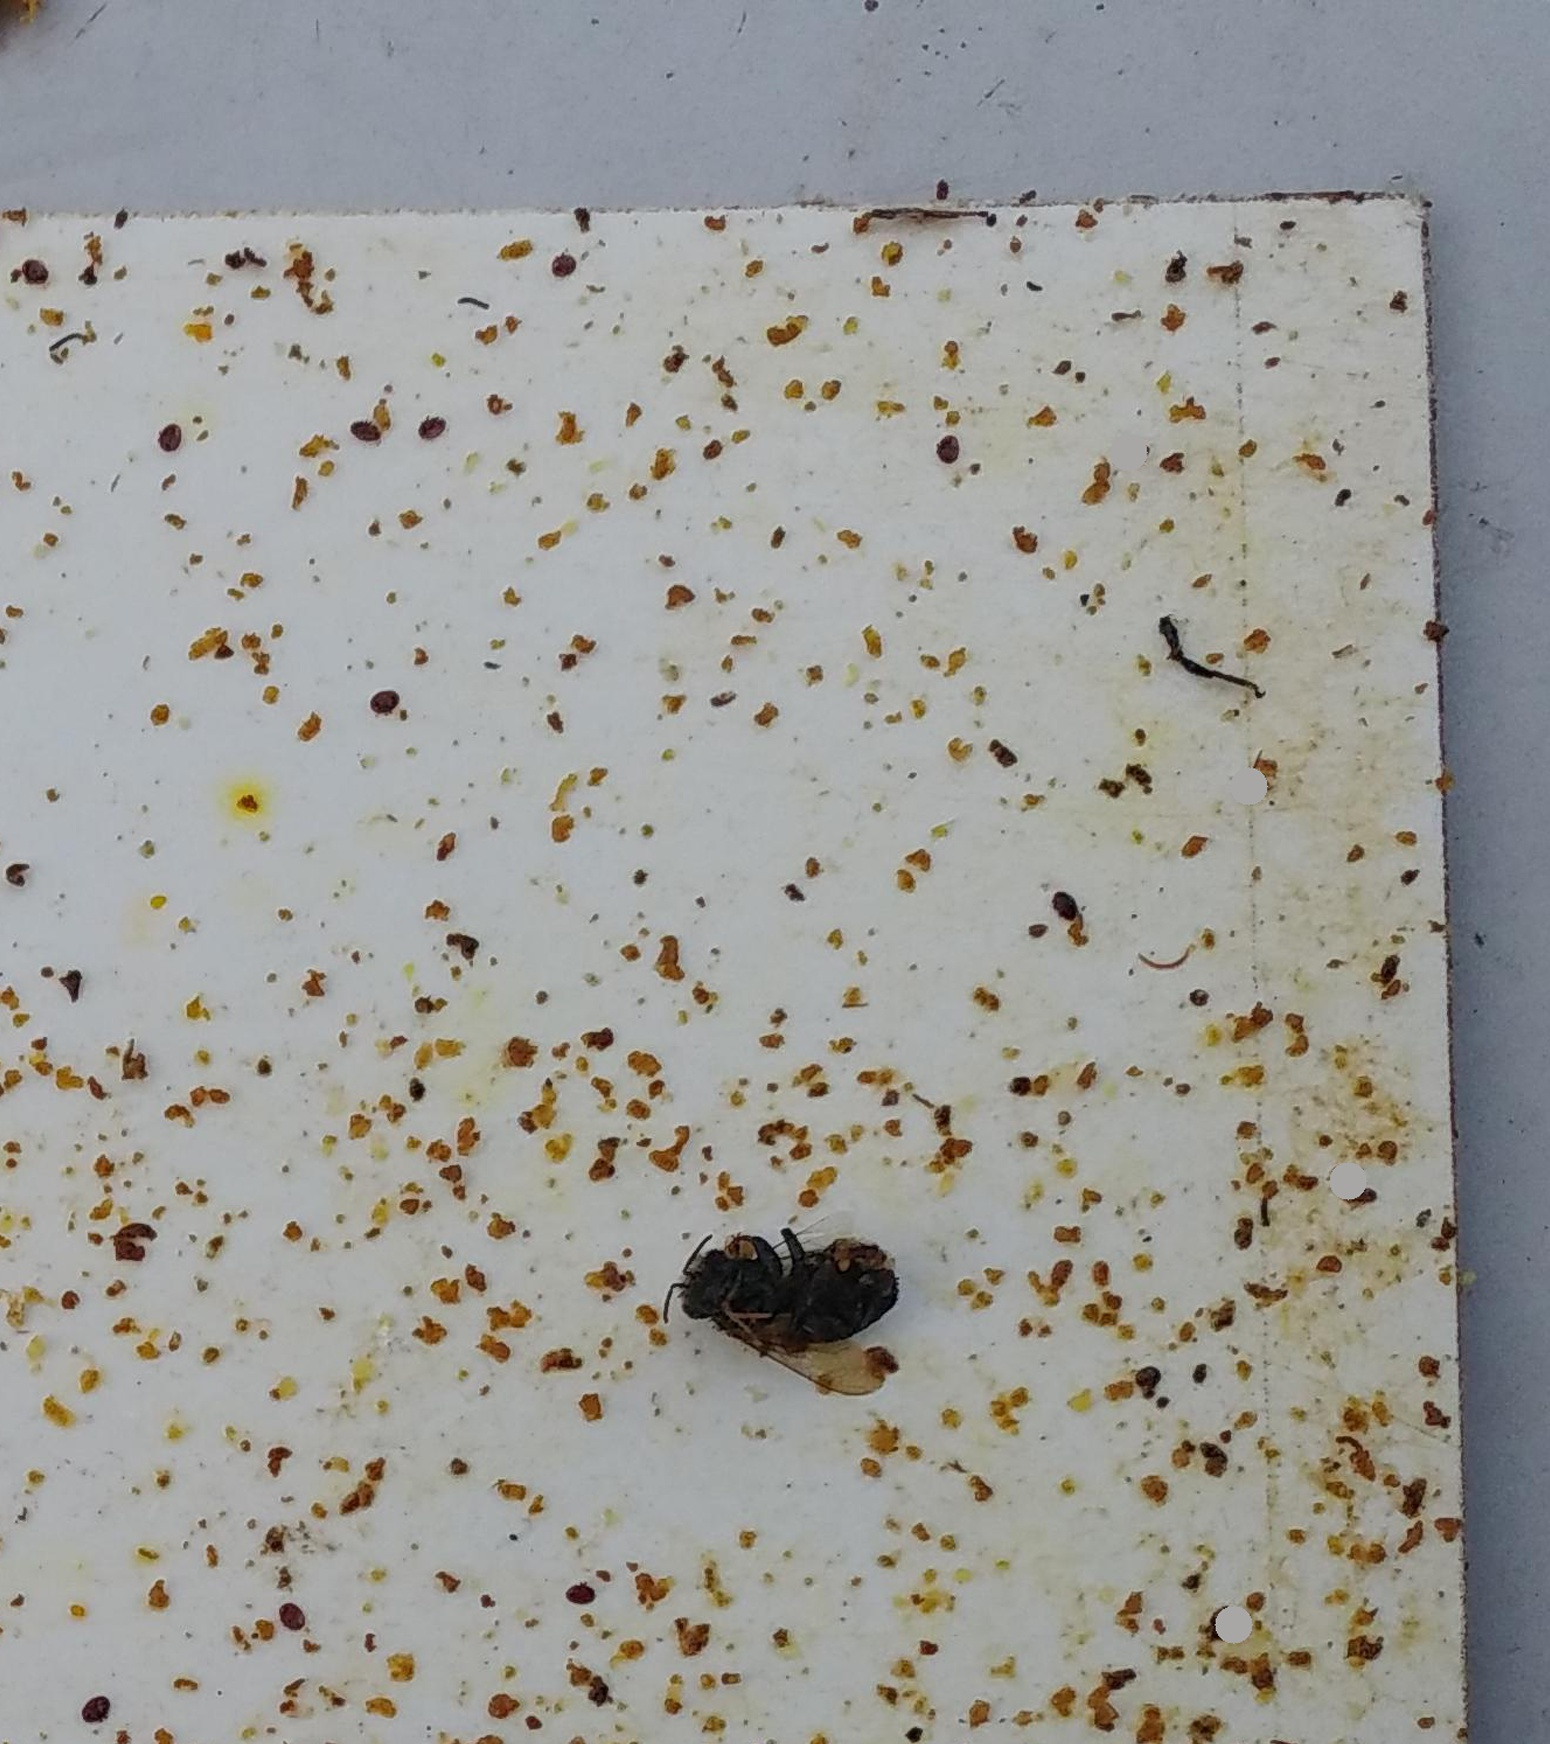Varroa: (156, 420, 186, 450), (1131, 1367, 1160, 1395), (278, 1603, 305, 1630), (352, 411, 377, 440), (82, 1696, 108, 1723), (937, 437, 961, 464), (25, 254, 49, 281), (1052, 888, 1076, 915), (560, 247, 583, 271), (374, 687, 396, 709), (570, 1584, 592, 1605), (431, 425, 441, 437)
